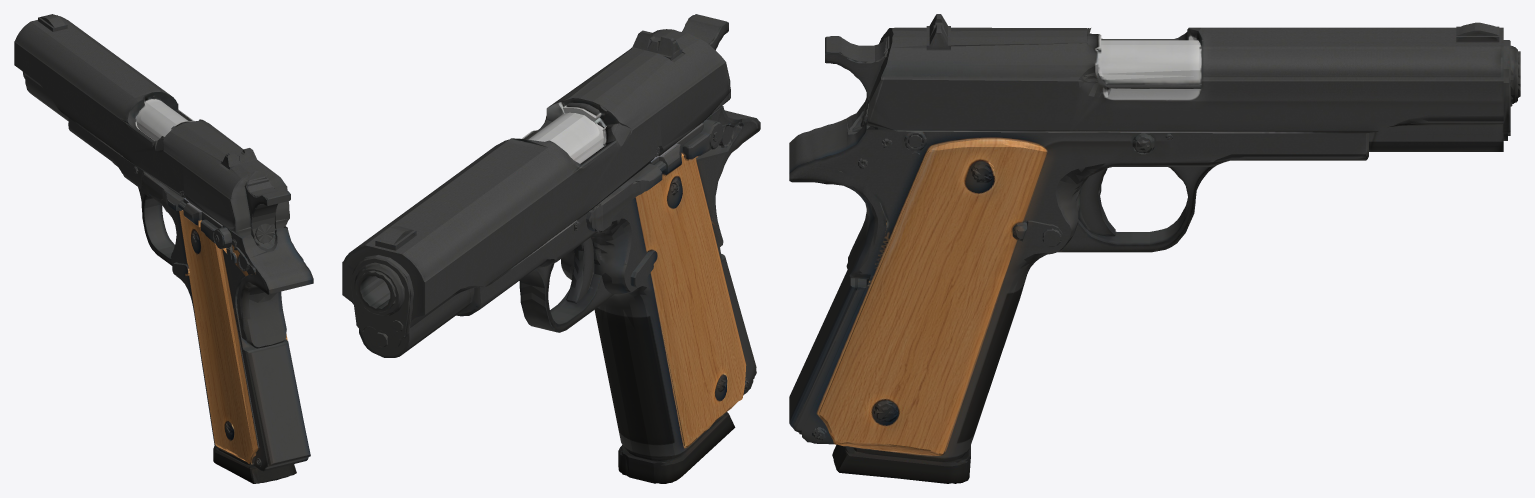
Rendered from rock-island-pistol.glb.
3 views of the same model, side by side, from view 1: azimuth 30°, elevation 25°; view 2: azimuth 150°, elevation 25°; view 3: azimuth 270°, elevation 25° (orthographic). The views are drawn at different scales.
Parts seen in each view (by area): view 1: Body, Barrel, Grip; view 2: Body, Barrel, Grip; view 3: Barrel, Body, Grip.
Part boxes in pixels (box(x1,y1,x2,y2)): Body: box(22, 71, 313, 483); Barrel: box(14, 14, 289, 237); Grip: box(179, 210, 287, 464); Body: box(351, 14, 760, 483); Barrel: box(342, 29, 730, 327); Grip: box(636, 153, 746, 447); Barrel: box(866, 14, 1503, 133); Body: box(789, 36, 1520, 483); Grip: box(817, 132, 1048, 455).
Bounding box in the file's own units: 0.1504 × 0.6777 × 0.998.
1 material, 1 textured.
